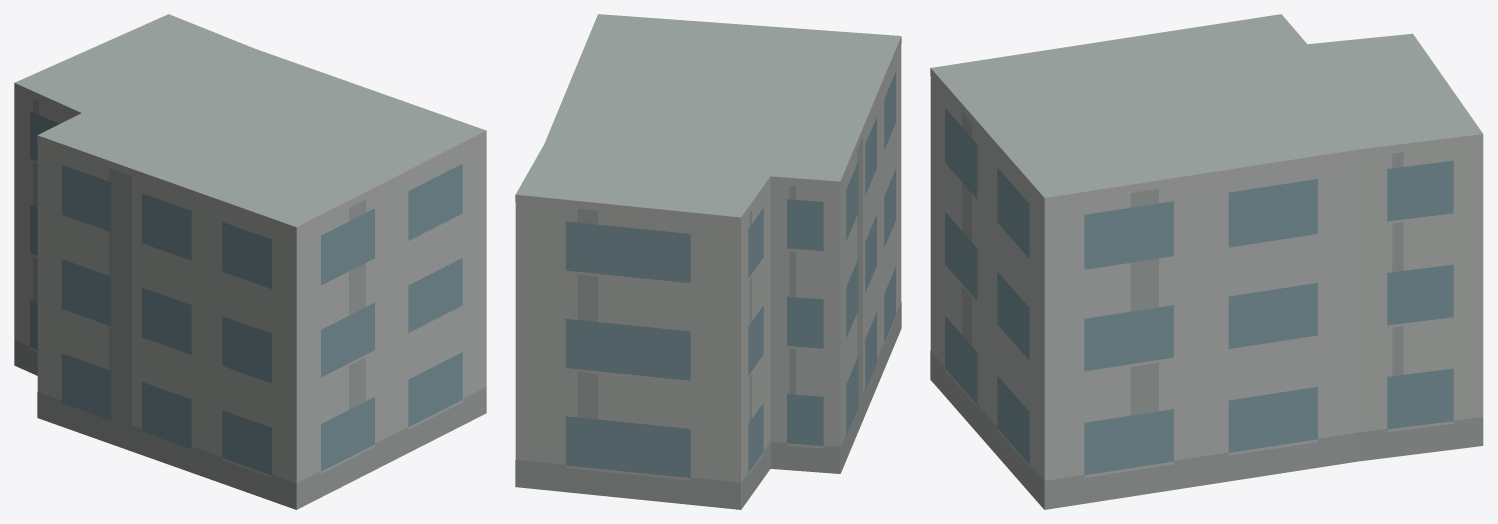
File: residential-c15c9e50-5b25-4efc-9157-85badd4c5cad.glb
3 renders of one model, left to right at view 1: azimuth 30°, elevation 25°; view 2: azimuth 150°, elevation 25°; view 3: azimuth 270°, elevation 25°, orthographic. The views are drawn at different scales.
Visible parts, largest first — view 1: residential-c15c9e50-5b25-4efc-9157-85badd4c5cad.tmp; view 2: residential-c15c9e50-5b25-4efc-9157-85badd4c5cad.tmp; view 3: residential-c15c9e50-5b25-4efc-9157-85badd4c5cad.tmp.
Part boxes in pixels (x1,y1,x2,y2): residential-c15c9e50-5b25-4efc-9157-85badd4c5cad.tmp: (14,14,486,509); residential-c15c9e50-5b25-4efc-9157-85badd4c5cad.tmp: (515,14,901,509); residential-c15c9e50-5b25-4efc-9157-85badd4c5cad.tmp: (930,14,1483,509).
Size of the model in its own units: 11.59 by 9.15 by 14.71.
